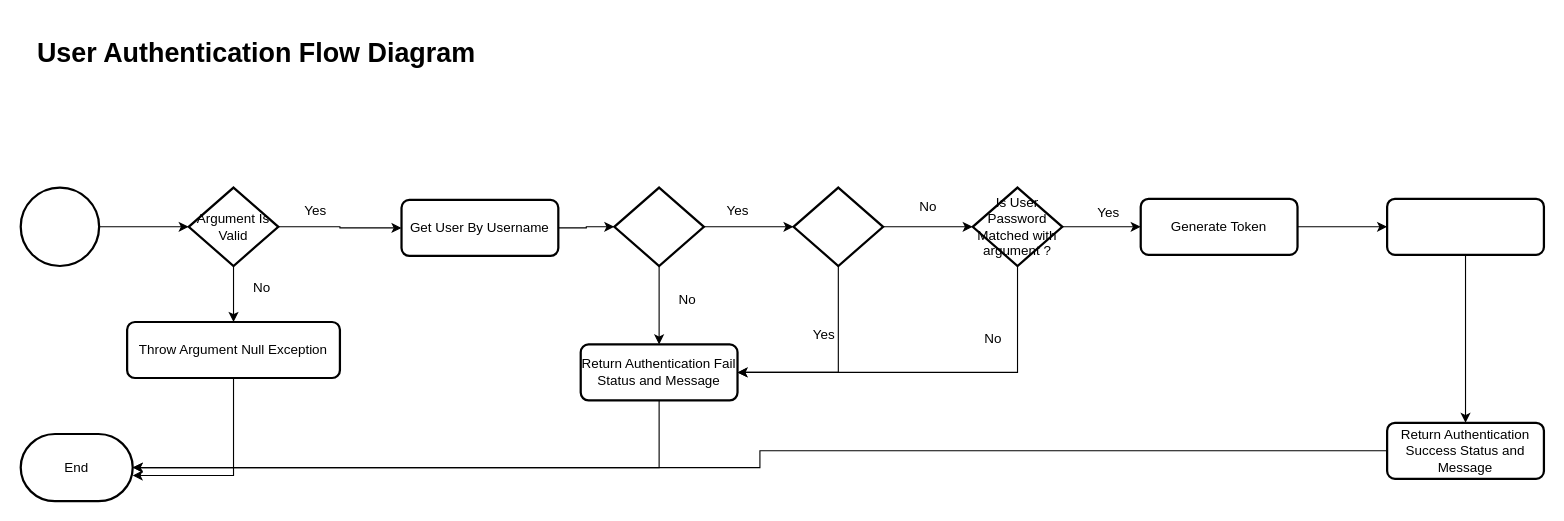
This 1564x521 diagram has some shape labels left out. The centre of each missing label's shape, as x and y in pixels:
"Add User Operation Duration To UserLog Collection" belongs at point 1464,226.
"Is User Exists" belongs at point 658,226.
"Is User Status Pending Activation" belongs at point 838,226.
"Start" belongs at point 59,226.
